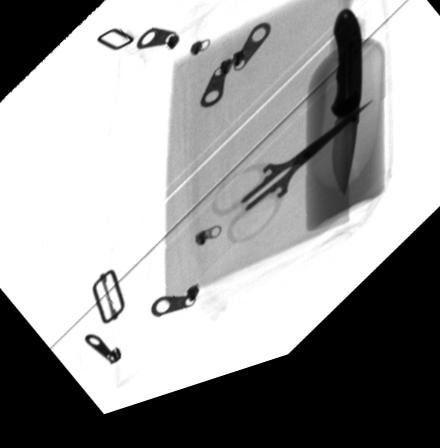Knife: (329, 28, 362, 216)
Scissors: (205, 121, 373, 261)
